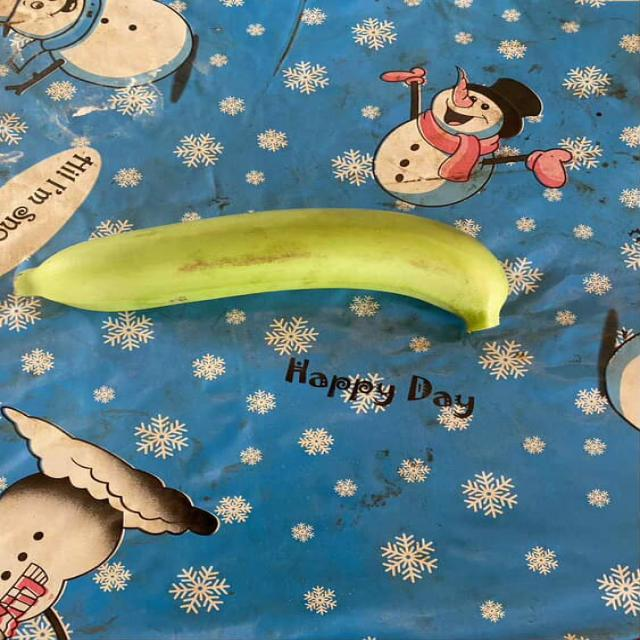Unripe: (0, 182, 529, 354)
